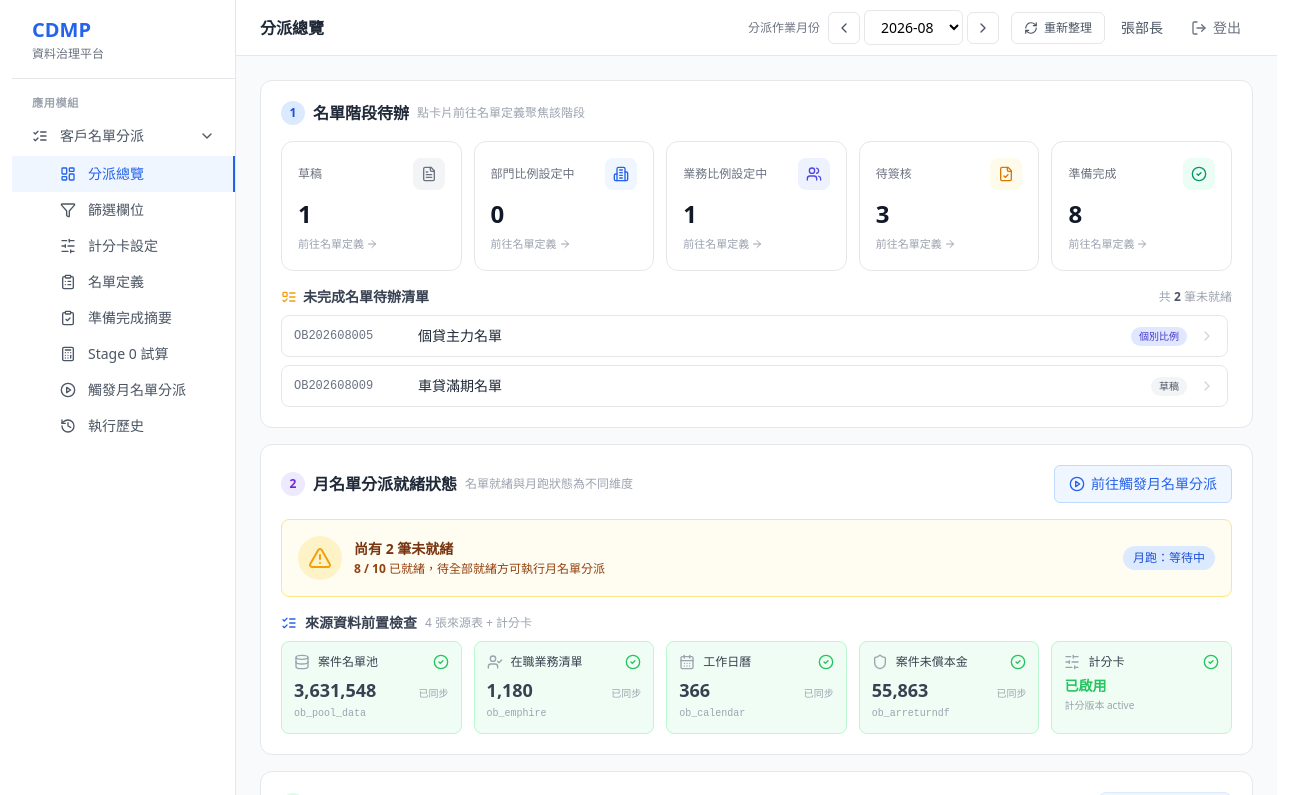
MONTH — 分派作業月份選擇器 › TS-F111-FE-MONTH-002：切換月份 → 以新 ym 重新請求；四區塊重繪；選擇器顯示新值
Select "2026-07" in the dropdown with test id "month-picker-select" at (914, 28), box [864,10,963,45]
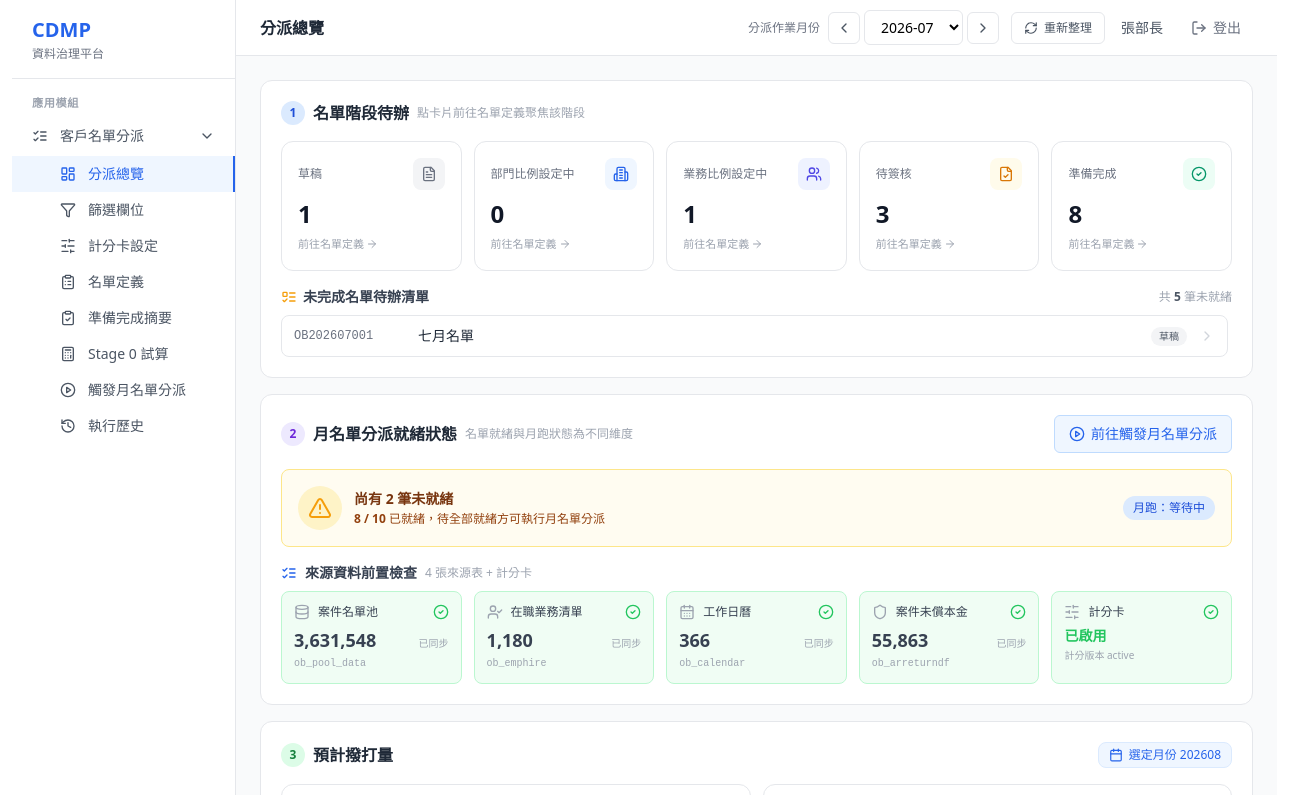
Result: the button with test id "todo-row-OB202607001" is shown at [281,315,1228,357]
